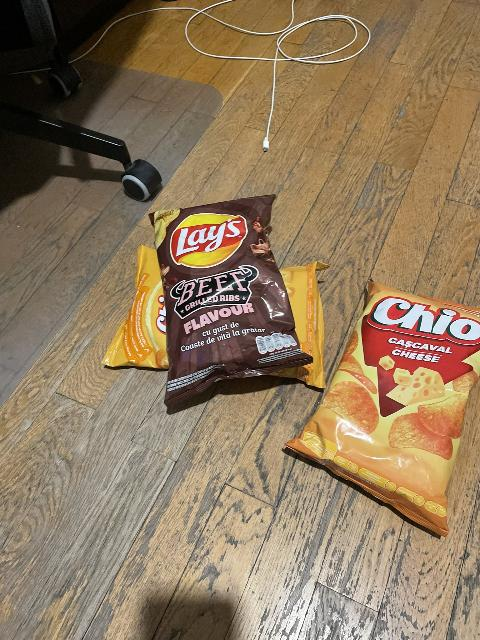Chio Cascaval 125g: (280, 279, 480, 538)
Chio Hula Hoops Cheese 70g: (104, 246, 330, 390)
Lays Beef Grilled Ribs 125g: (146, 193, 316, 406)
